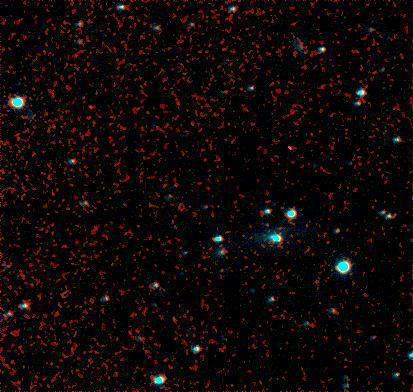star: (273, 134, 303, 164)
